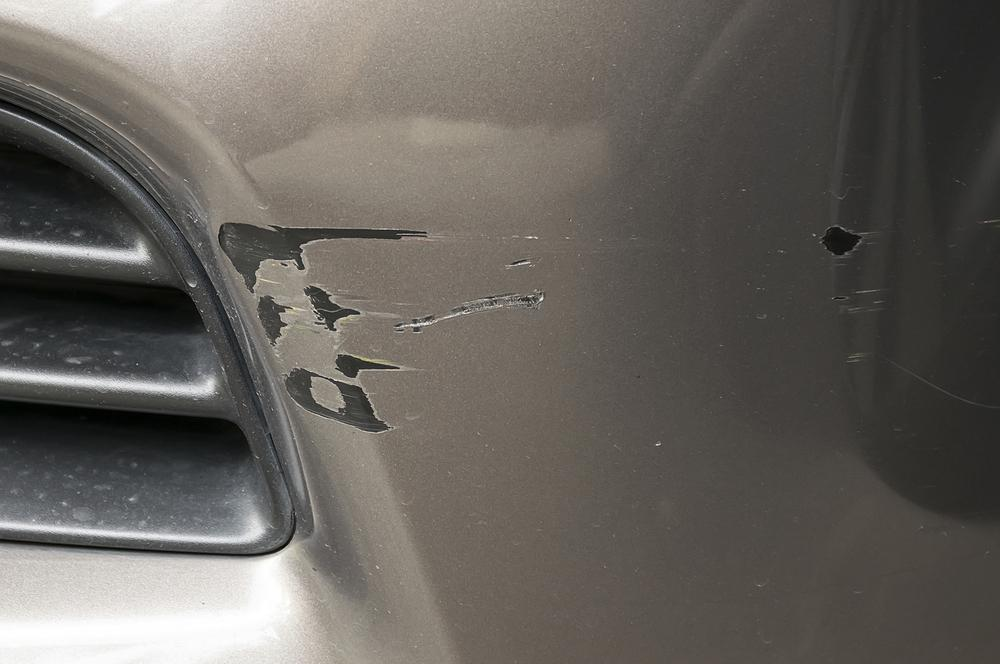scratch: (212, 212, 568, 438), (813, 206, 894, 375)
